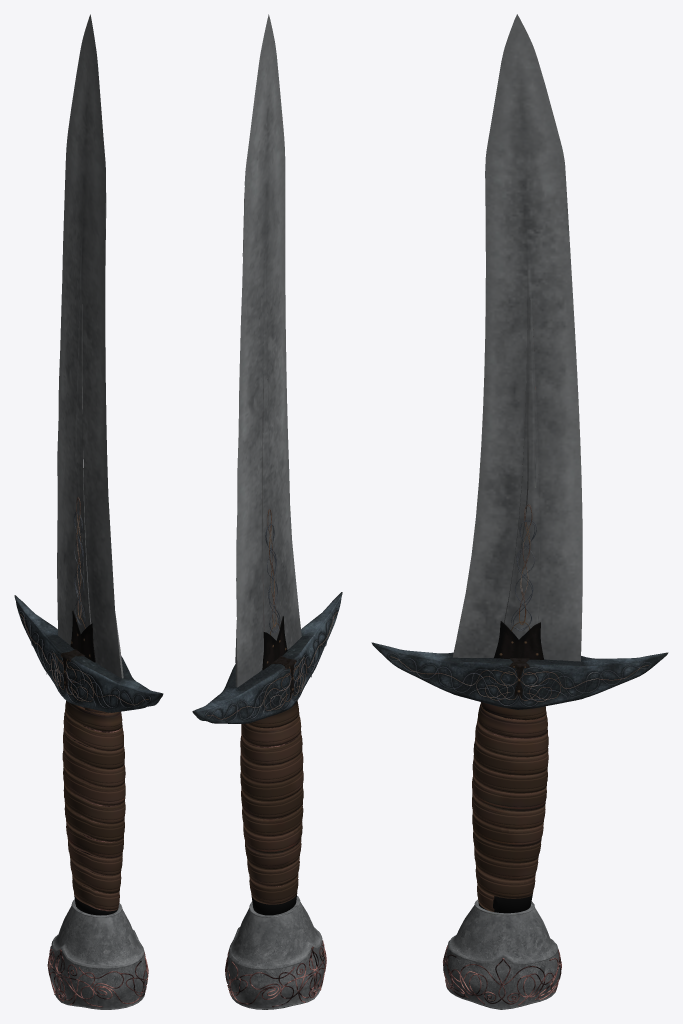
File: Ornate Dagger.fbx
3 views of the same model, side by side, from view 1: azimuth 30°, elevation 25°; view 2: azimuth 150°, elevation 25°; view 3: azimuth 270°, elevation 25° (orthographic).
Visible parts, largest first — view 1: mainblade.001; view 2: mainblade.001; view 3: mainblade.001.
Part boxes in pixels (bbox=[...]): mainblade.001: bbox=[14, 14, 163, 1009]; mainblade.001: bbox=[192, 14, 342, 1009]; mainblade.001: bbox=[371, 14, 668, 1009].
Size of the model in its own units: 4.41 by 50.77 by 13.98.
